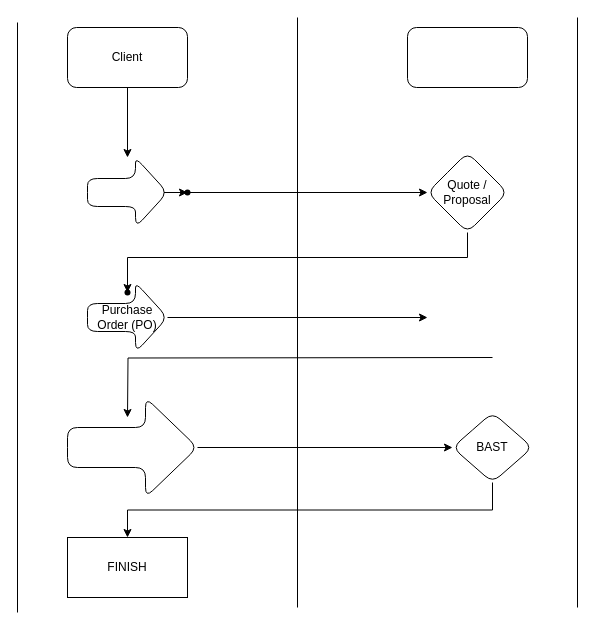
This 596x631 diagram has some shape labels left out. Each missing label, with the centre of its shape:
"Mikrotek" belongs at (467,57).
"Request Proyek" belongs at (127,192).
"Transfer dan Bukti Potong" belongs at (132,447).
